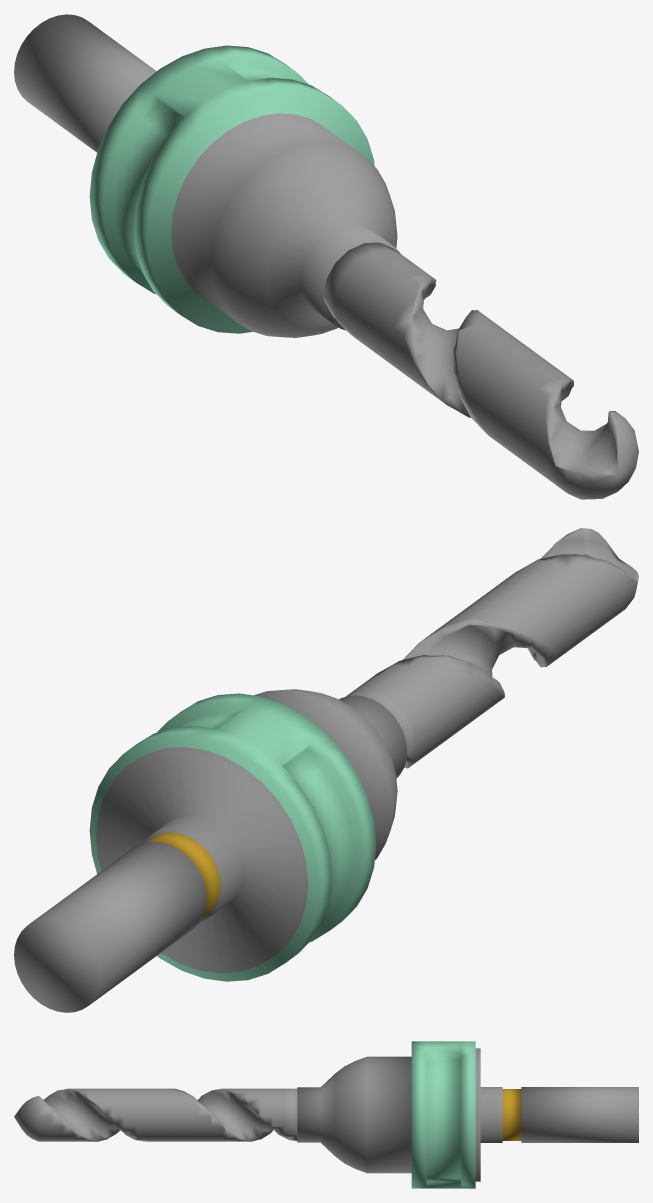
File: Drill3.fbx
The picture shows the model from 3 angles, top to bottom: view 1: azimuth 30°, elevation 25°; view 2: azimuth 150°, elevation 25°; view 3: azimuth 270°, elevation 25°; orthographic projection. The views are drawn at different scales.
Visible parts, largest first — view 1: Drill3; view 2: Drill3; view 3: Drill3.
Boxes of the visible parts, x1,y1,x2,y2 form: Drill3: (14,14,638,499); Drill3: (14,528,638,1012); Drill3: (14,1041,638,1188).
Size of the model in its own units: 1.24 by 1.24 by 5.27.
